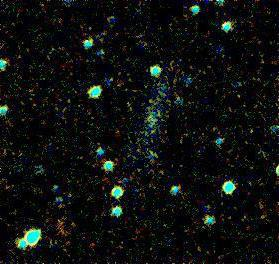star: (47, 209, 77, 239)
